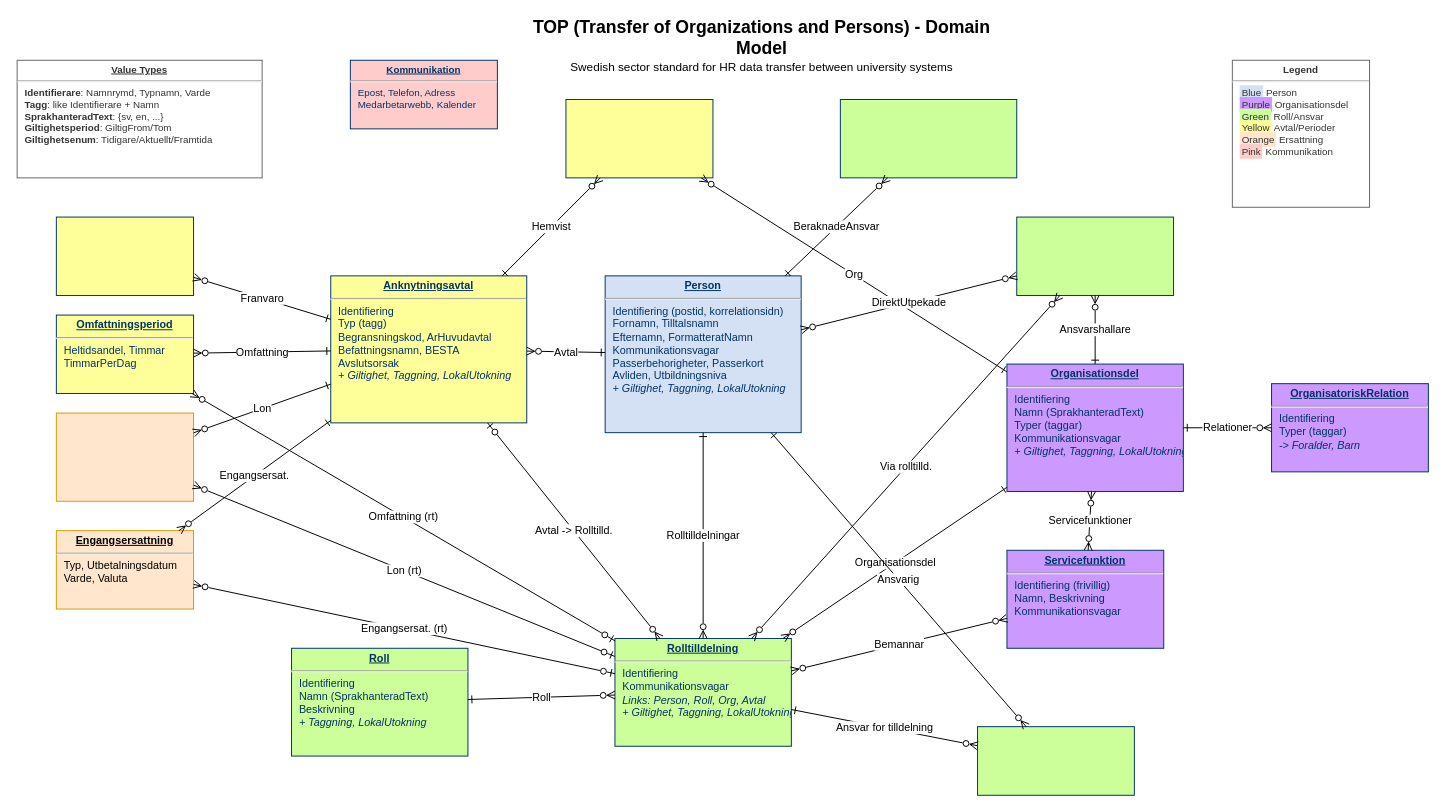
This 1446x812 diagram has some shape labels left out. Each missing label, with the centre of its shape:
BeraknatAnsvar Typ (tagg) -> Ansvarig, Berord (Person): [928,138]
Franvaroperiod Typ (tagg) Heltidsandel, BetaldFranvaro: [124,255]
Hemvistperiod Giltighet, Typtagg -> Organisationsdel: [639,138]
LopandeErsattning Typ (tagg) Varde, Valuta Konteringar: [124,456]
Organisationsdelsansvar Typ (tagg) -> Org, Person, Rolltilld.: [1095,255]
Rolltilldelningsansvar Typ (tagg) -> Ansvarig Person: [1055,760]
